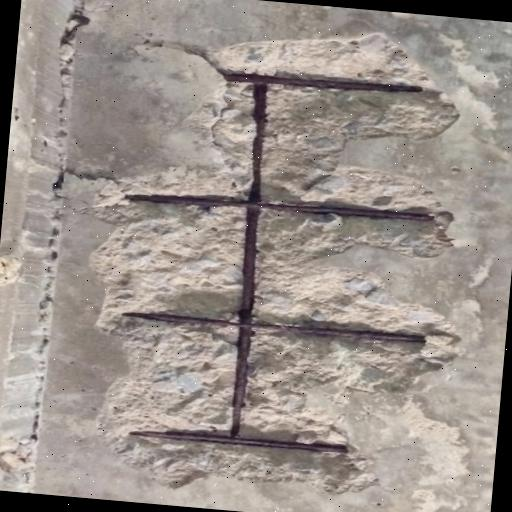spalling: (53, 0, 484, 511)
